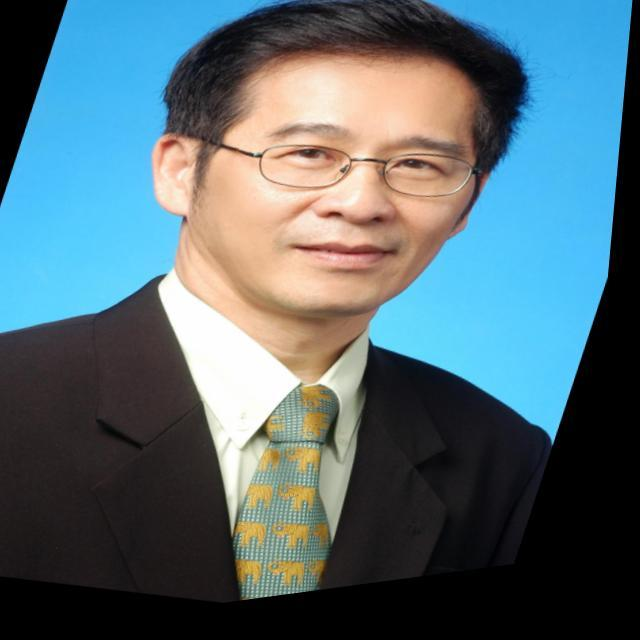Nonhelmet: (147, 0, 532, 321)
